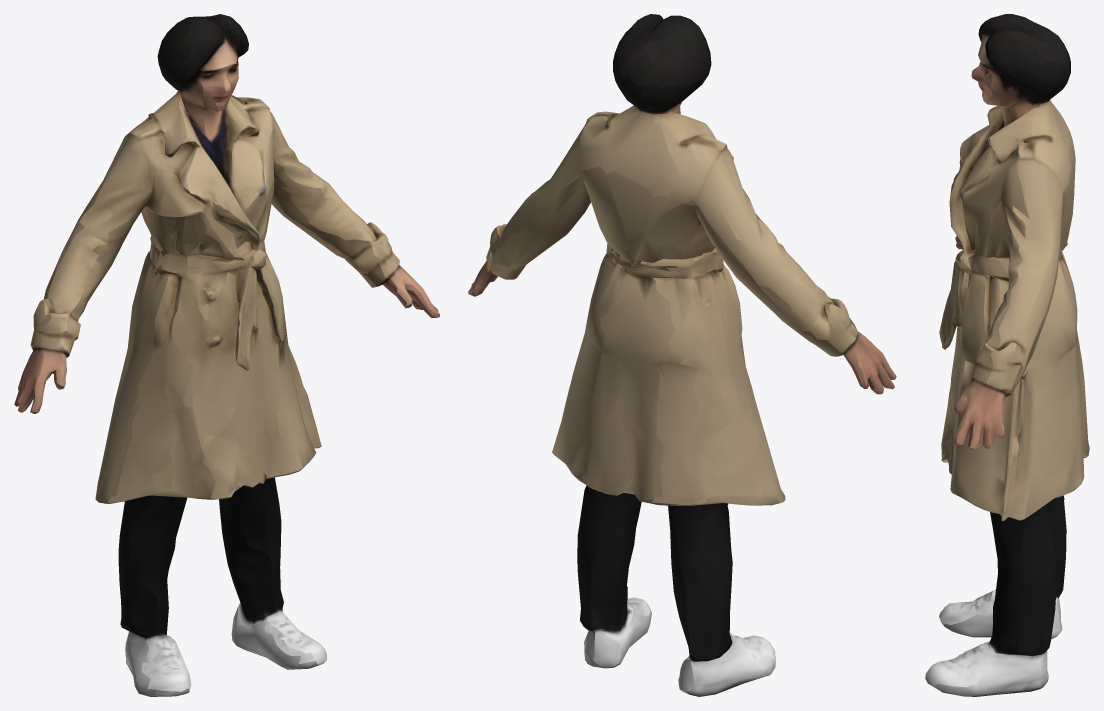
Rendered from office_f.glb.
The picture shows the model from 3 angles, left to right: view 1: azimuth 30°, elevation 25°; view 2: azimuth 150°, elevation 25°; view 3: azimuth 270°, elevation 25°; orthographic projection.
Parts seen in each view (by area): view 1: world; view 2: world; view 3: world.
Boxes of the visible parts, box(x1,y1,x2,y2) form: world: box(14, 14, 439, 696); world: box(468, 14, 896, 696); world: box(925, 14, 1089, 696).
Size of the model in its own units: 1.2 by 1.75 by 0.4094.
1 material, 1 textured.
